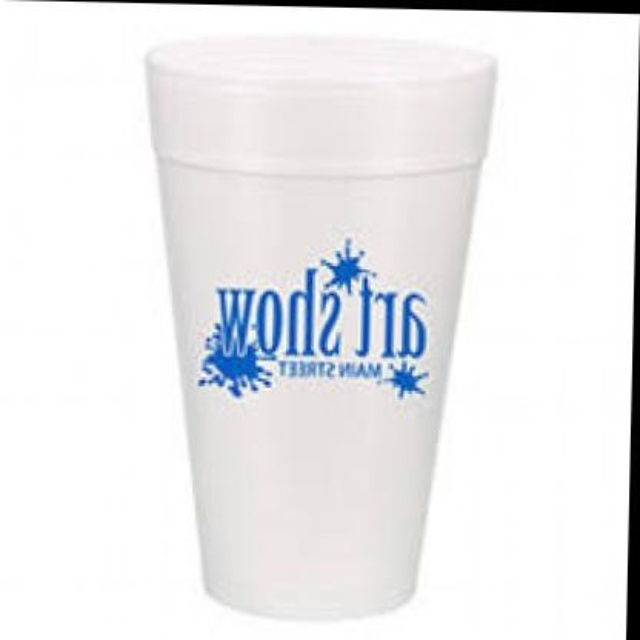trash: (148, 37, 494, 615)
